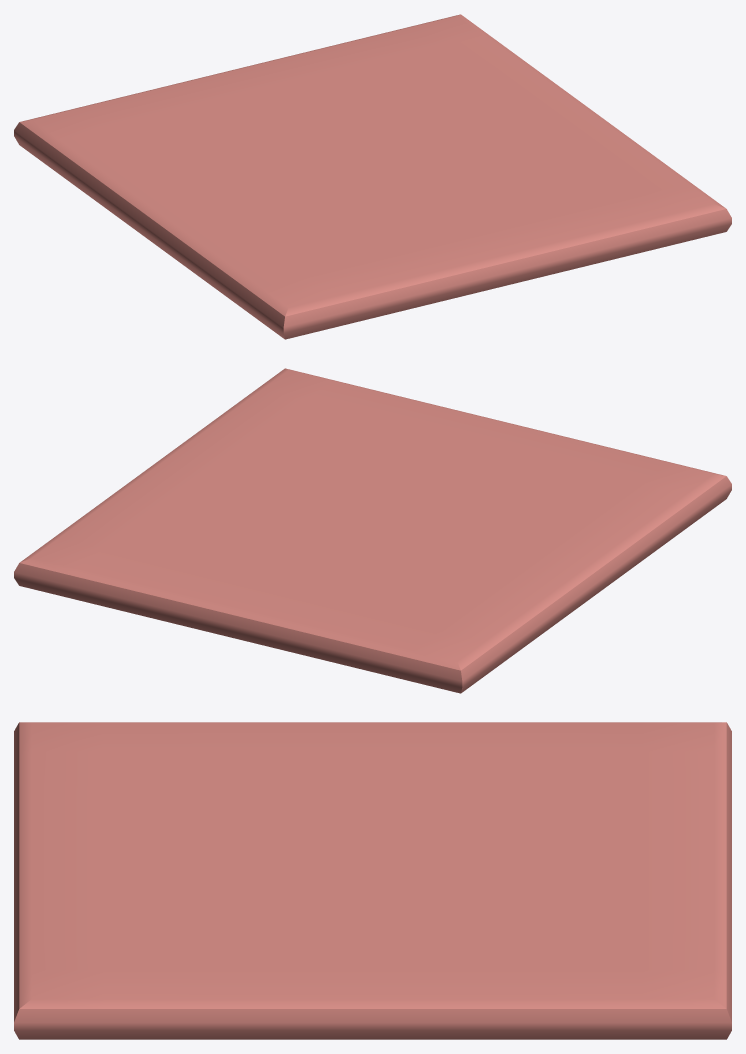
File: blanket.fbx
3 renders of one model, top to bottom at view 1: azimuth 30°, elevation 25°; view 2: azimuth 150°, elevation 25°; view 3: azimuth 270°, elevation 25°, orthographic. The views are drawn at different scales.
Parts seen in each view (by area): view 1: pCube4; view 2: pCube4; view 3: pCube4.
Boxes of the visible parts, box(x1,y1,x2,y2) form: pCube4: box(14, 14, 731, 339); pCube4: box(14, 368, 731, 693); pCube4: box(14, 722, 731, 1039).
Bounding box in the file's own units: 5.53 × 0.3538 × 5.76.
